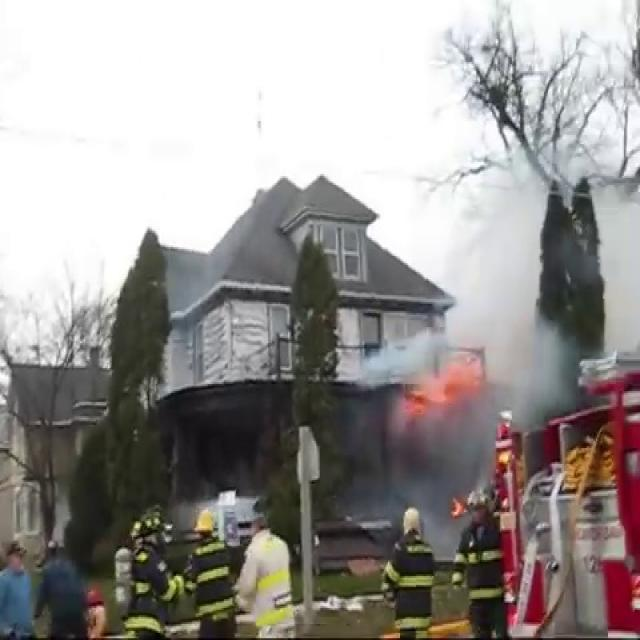Fire: (417, 354, 480, 402)
Smoke: (384, 143, 570, 531)
